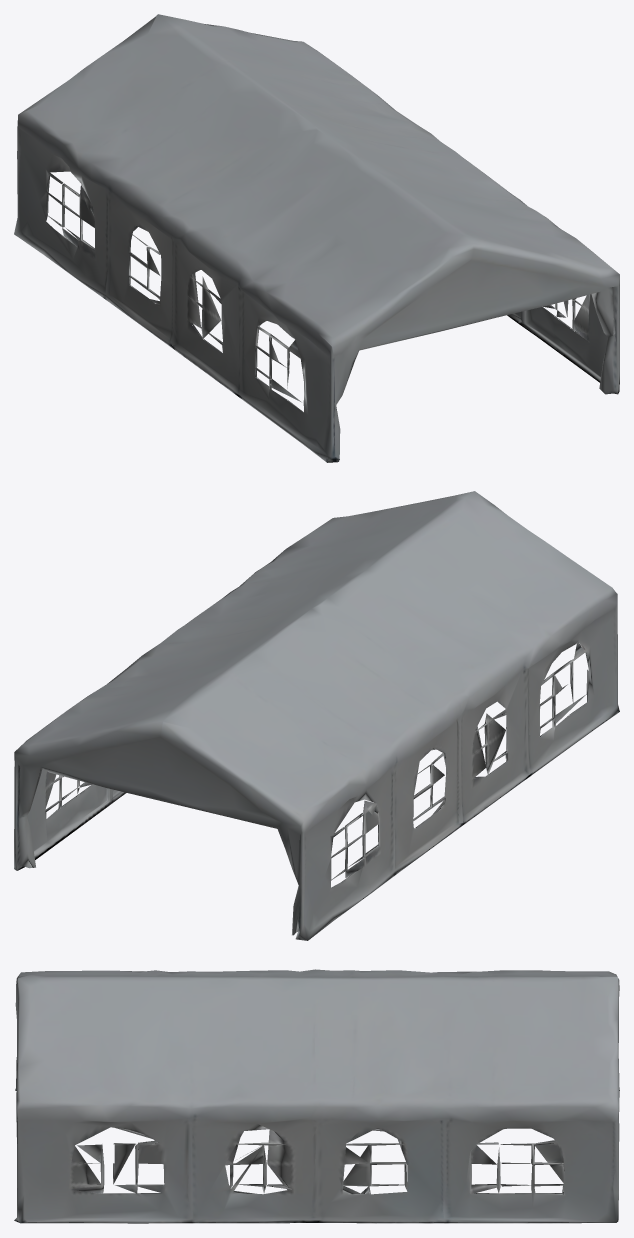
The model's file is tenda_roder_besar.glb.
The picture shows the model from 3 angles, top to bottom: view 1: azimuth 30°, elevation 25°; view 2: azimuth 150°, elevation 25°; view 3: azimuth 270°, elevation 25°; orthographic projection. The views are drawn at different scales.
Visible parts, largest first — view 1: tripo_node_1d90eb70; view 2: tripo_node_1d90eb70; view 3: tripo_node_1d90eb70.
Boxes of the visible parts, x1=… form: tripo_node_1d90eb70: x1=14, y1=14, x2=619, y2=462; tripo_node_1d90eb70: x1=14, y1=491, x2=619, y2=940; tripo_node_1d90eb70: x1=14, y1=969, x2=619, y2=1223.
Bounding box in the file's own units: 53.65 × 32.13 × 99.8.
1 material, 1 textured.
